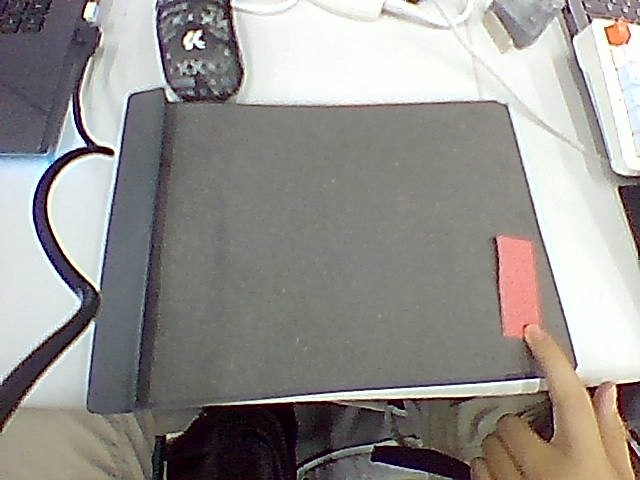card: (497, 236, 541, 337)
